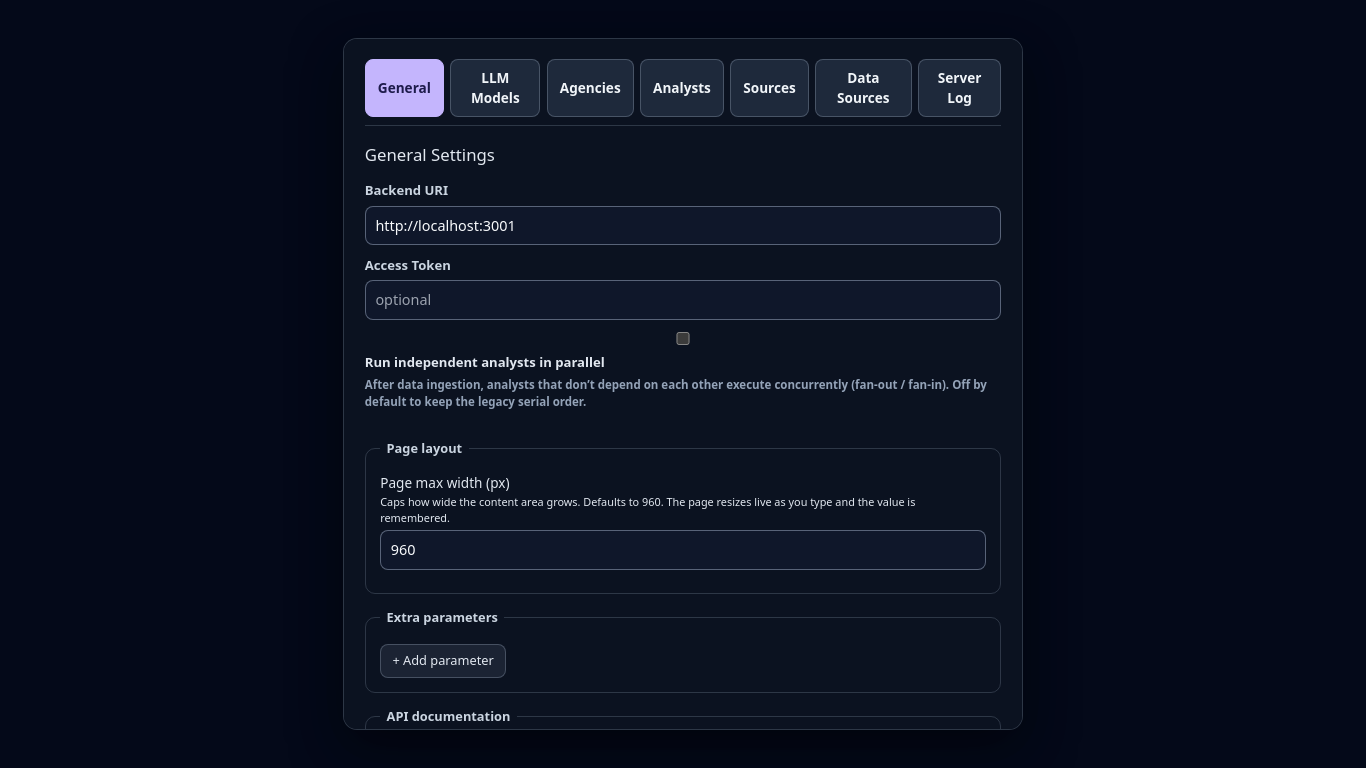
SettingsDialog › shows an error when postSettings rejects
Type "https://ok.example" into the field labelled "Backend URI" at (683, 225), box x1=365 y1=206 x2=1001 y2=245
(page scrolled)
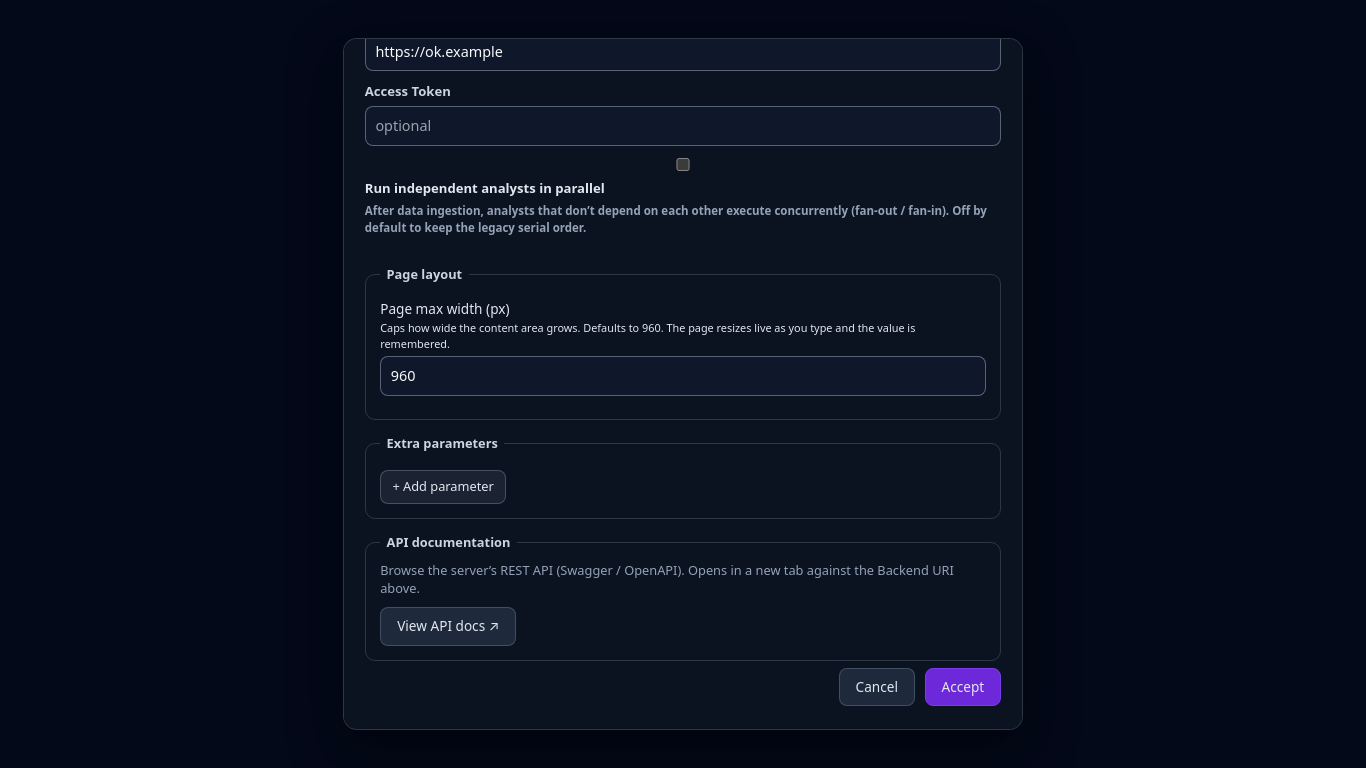
Click the button "Accept" at (963, 687), box x1=924 y1=668 x2=1001 y2=706
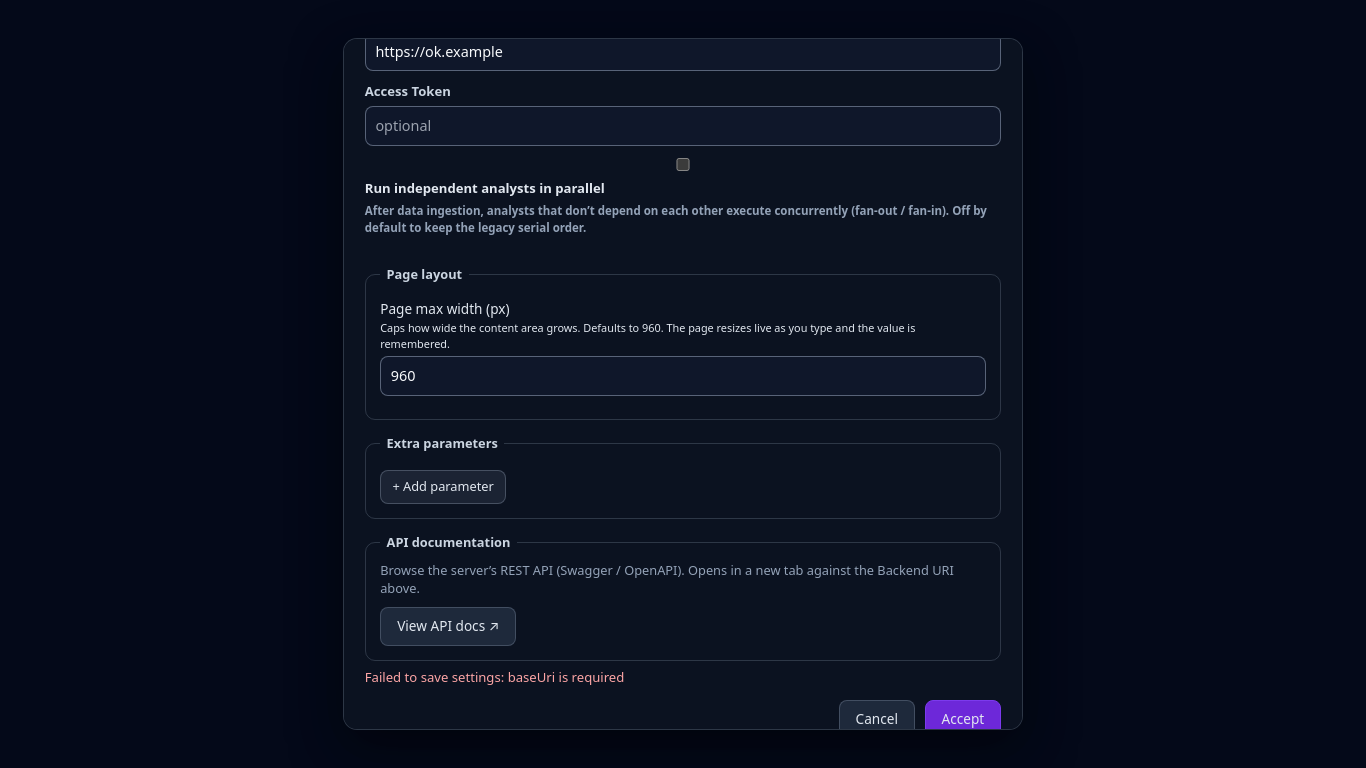
Check: the message shows "baseUri is required", box x1=365 y1=668 x2=624 y2=686
